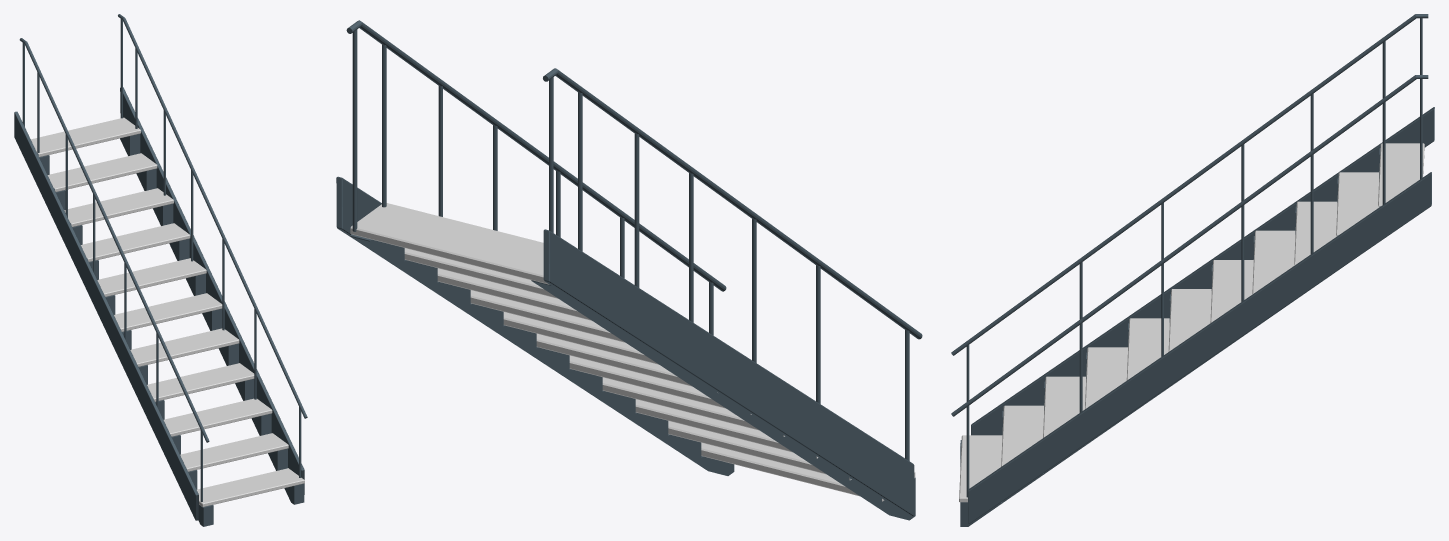
File: StraightStair.FBX
The picture shows the model from 3 angles, left to right: view 1: azimuth 30°, elevation 25°; view 2: azimuth 150°, elevation 25°; view 3: azimuth 270°, elevation 25°; orthographic projection. The views are drawn at different scales.
Parts seen in each view (by area): view 1: Object005, StraightStair001, Object003; view 2: StraightStair001, Object005, Object003; view 3: Object003, Object005, StraightStair001.
Boxes of the visible parts, bbox=[...] form: Object005: bbox=[31, 117, 304, 506]; StraightStair001: bbox=[19, 14, 307, 526]; Object003: bbox=[14, 87, 304, 520]; StraightStair001: bbox=[346, 20, 922, 520]; Object005: bbox=[350, 203, 915, 501]; Object003: bbox=[336, 176, 914, 516]; Object003: bbox=[968, 107, 1434, 523]; Object005: bbox=[959, 143, 1424, 502]; StraightStair001: bbox=[951, 14, 1428, 526].
Size of the model in its own units: 37.75 by 118 by 114.
